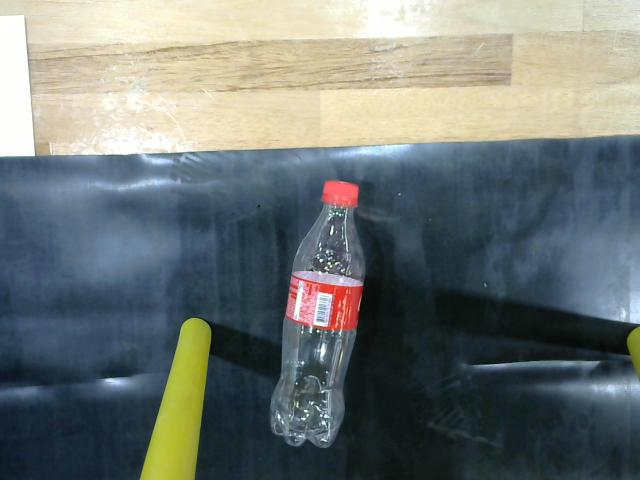bottle: (251, 174, 378, 458)
